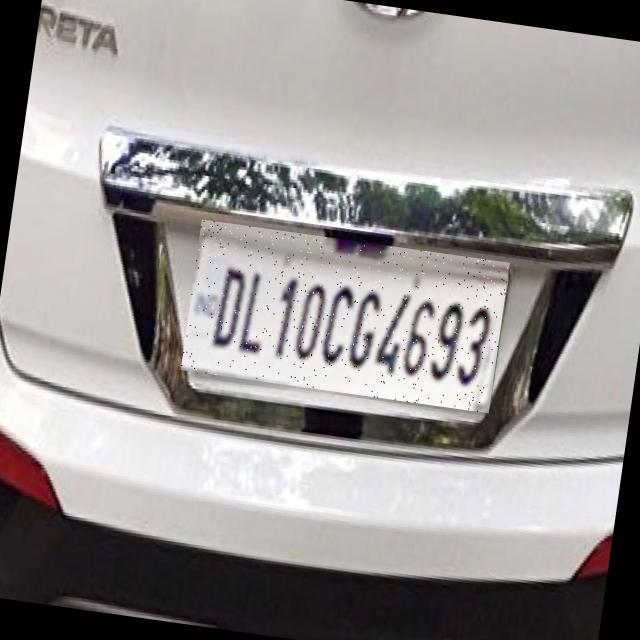Plate: (182, 221, 511, 415)
